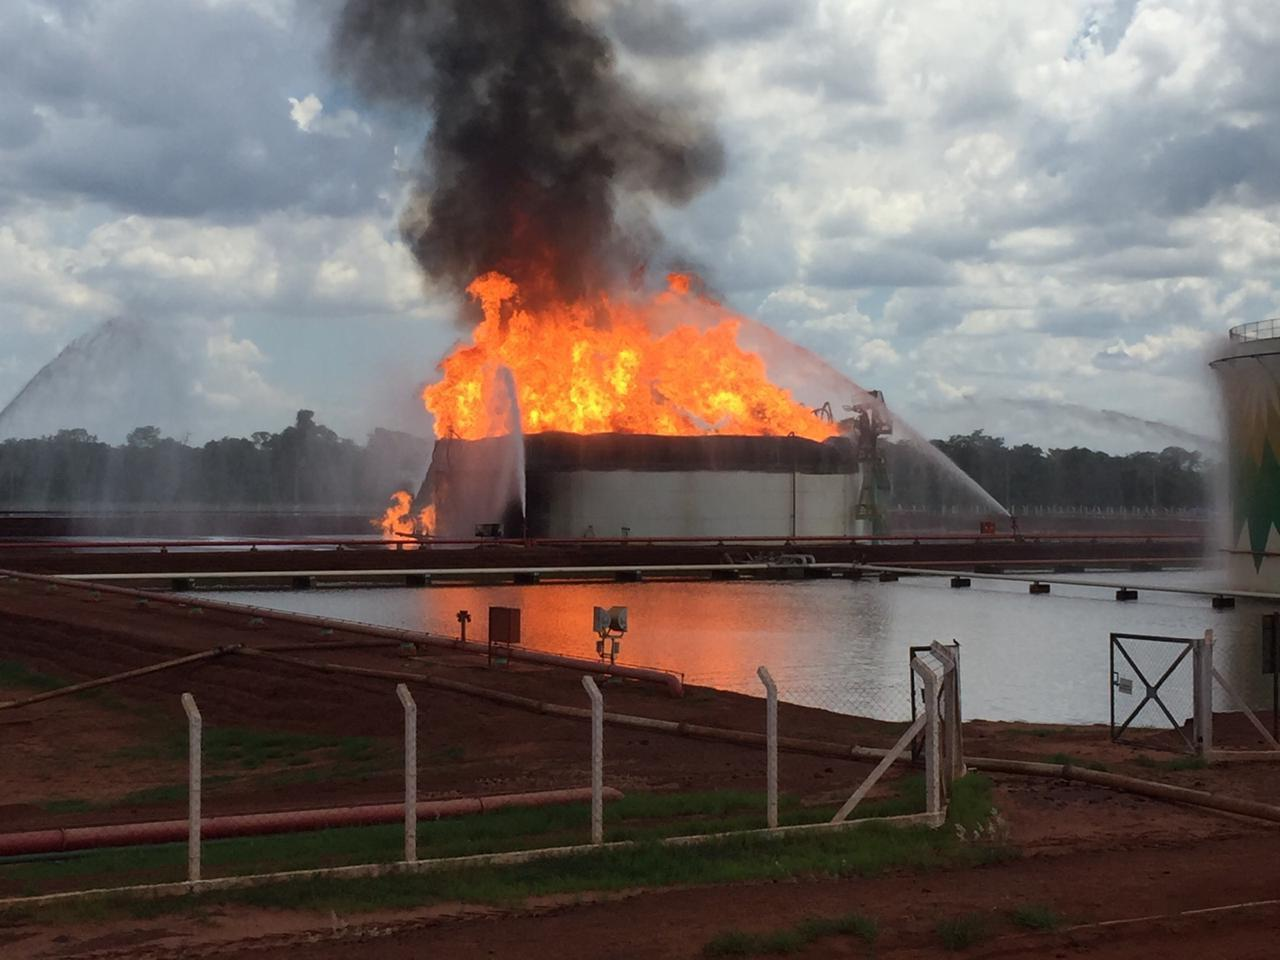Fire: (438, 281, 835, 440), (385, 497, 442, 543)
